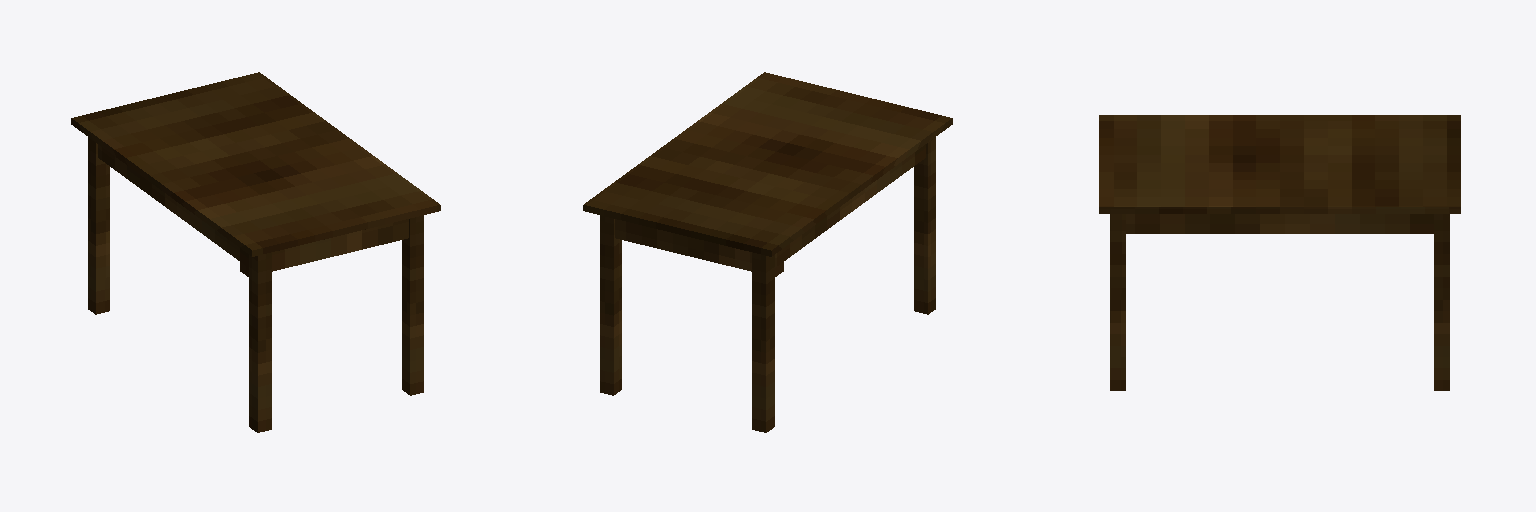
The picture shows the model from 3 angles: view 1: azimuth 30°, elevation 25°; view 2: azimuth 150°, elevation 25°; view 3: azimuth 270°, elevation 25°; orthographic projection.
Visible parts, largest first — view 1: deskWorn; view 2: deskWorn; view 3: deskWorn.
Boxes of the visible parts, box(x1,y1,x2,y2) form: deskWorn: box(71, 72, 440, 432); deskWorn: box(583, 72, 952, 432); deskWorn: box(1099, 115, 1460, 390).
Bounding box in the file's own units: 1.61 × 1.54 × 2.68.
Materials: 1 (1 with a texture image).